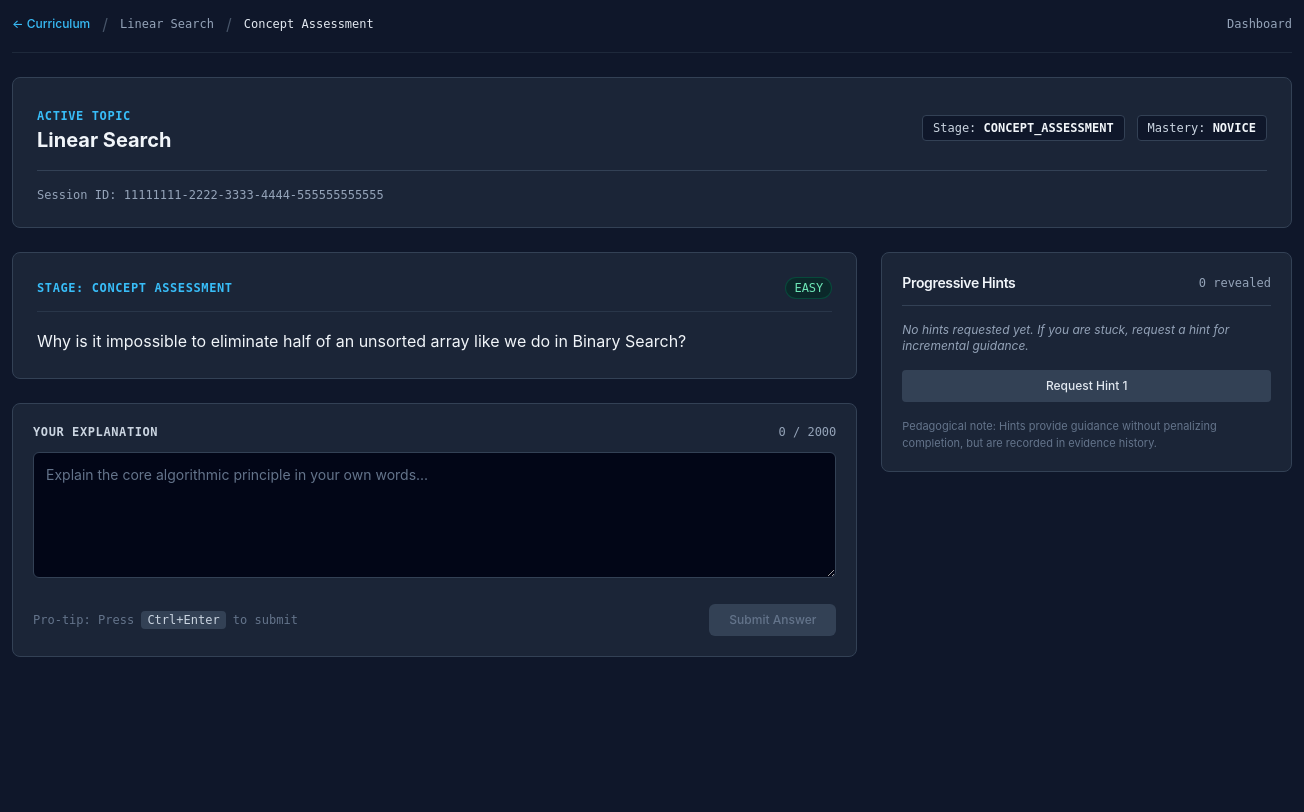
Scenario: LearningWorkspace Component › requests progressive hints, displays hint list, and handles hint errors cleanly
expect the element with test id "active-workspace" is shown: met, box [12, 252, 1292, 657]
expect the text "0 revealed" is shown: met, box [1199, 275, 1271, 291]
Click the button with test id "btn-request-hint".
click(1087, 386)  # box [902, 370, 1271, 402]
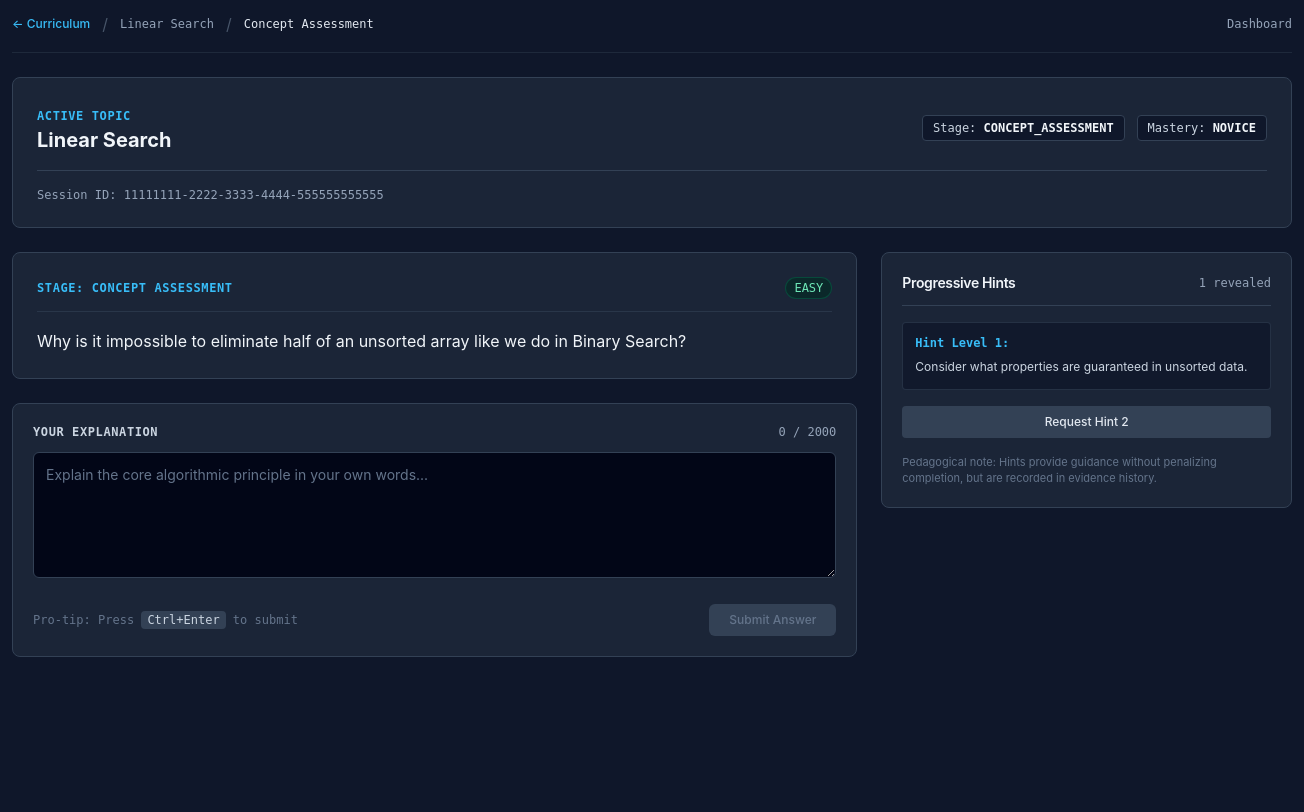
expect the element with test id "hints-list" is shown: met, box [902, 322, 1271, 390]
expect the text "Hint Level 1:" is shown: met, box [915, 336, 1009, 350]
expect the text "Consider what properties are guaranteed in unsorted data." is shown: met, box [915, 357, 1258, 376]
Click the button with test id "btn-request-hint".
click(1087, 422)  # box [902, 406, 1271, 438]
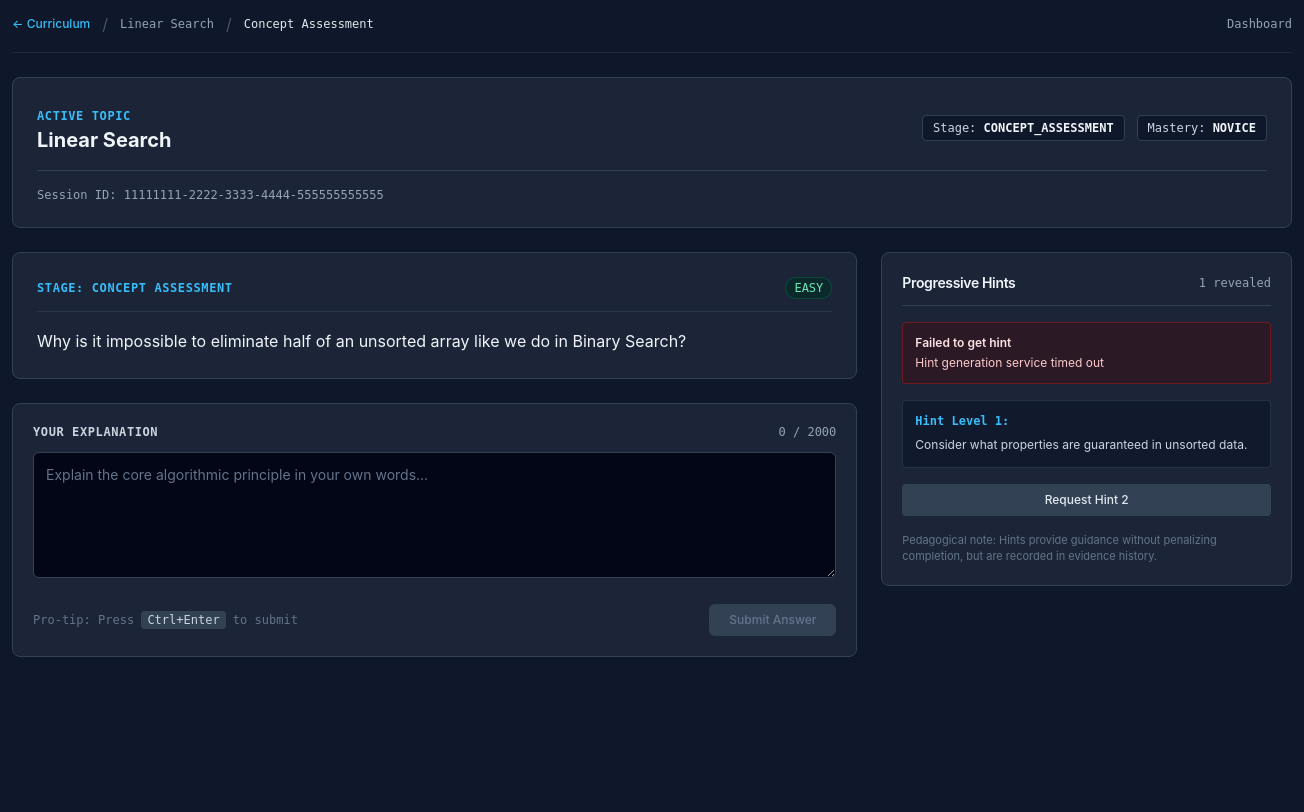
expect the text "Consider what properties are guaranteed in unsorted data." is shown: met, box [915, 435, 1258, 454]
expect the message "Failed to get hint Hint generation service timed out" is shown: met, box [902, 322, 1271, 384]
expect the text "Hint generation service timed out" is shown: met, box [915, 355, 1104, 370]
